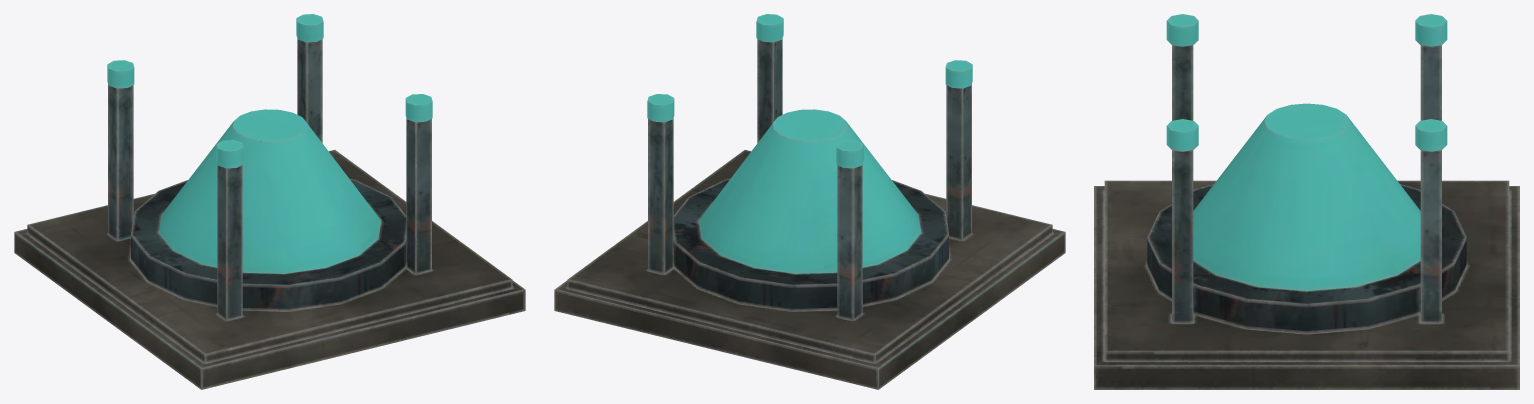
File: shield_generator.glb
The picture shows the model from 3 angles, left to right: view 1: azimuth 30°, elevation 25°; view 2: azimuth 150°, elevation 25°; view 3: azimuth 270°, elevation 25°; orthographic projection. The views are drawn at different scales.
Parts seen in each view (by area): view 1: te_shield_generator; view 2: te_shield_generator; view 3: te_shield_generator.
Part boxes in pixels (x1,y1,x2,y2): te_shield_generator: (14, 14, 525, 389); te_shield_generator: (554, 14, 1065, 389); te_shield_generator: (1094, 14, 1519, 389).
Size of the model in its own units: 0.8 by 0.47 by 0.8.
1 material, 1 textured.
